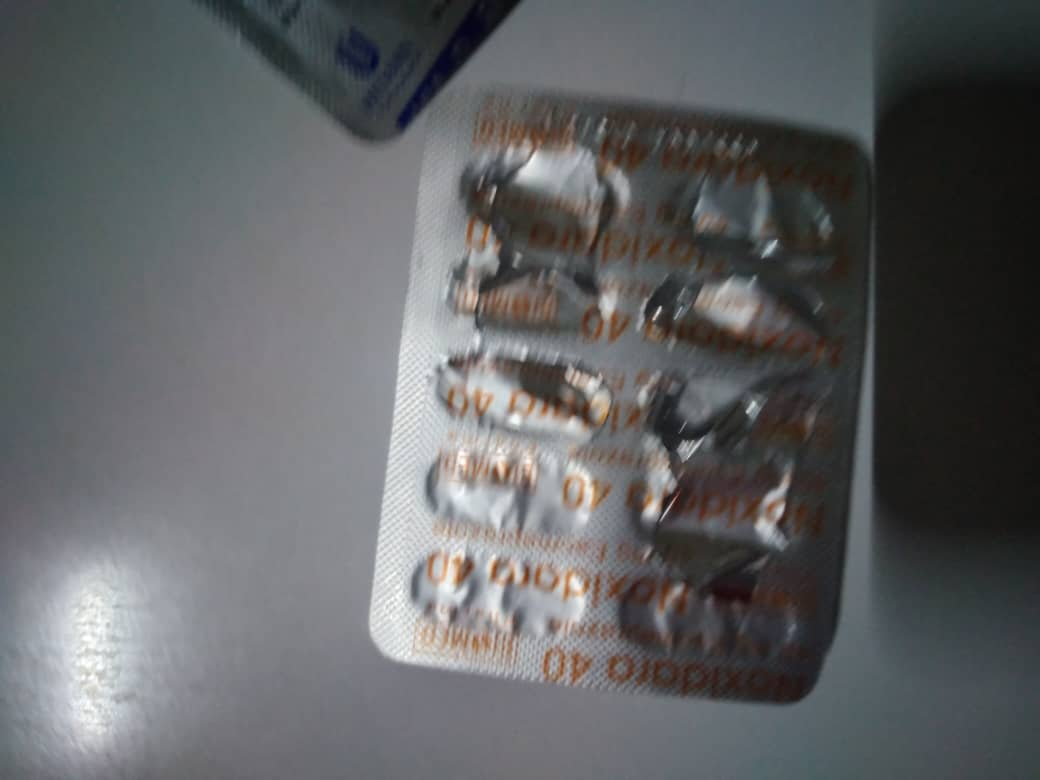Medicine: (364, 66, 880, 722)
